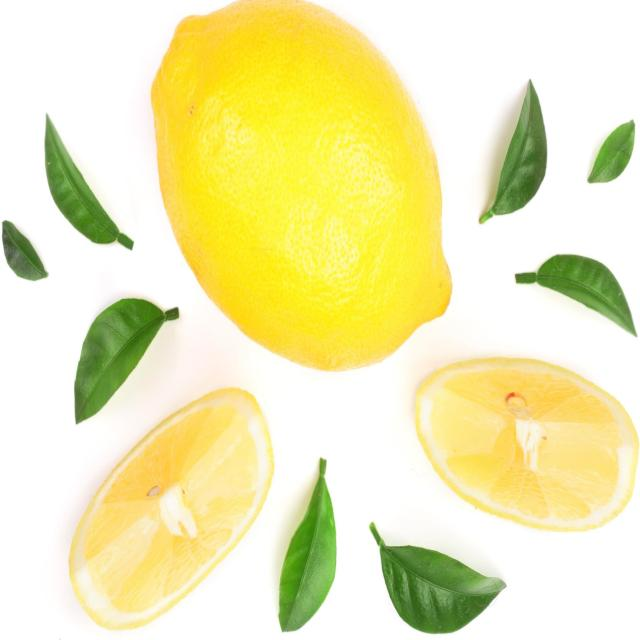lemon: (146, 1, 454, 390)
